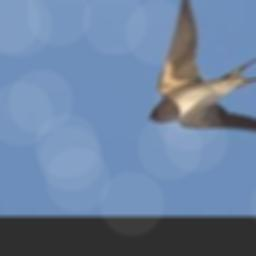Swallow: (148, 0, 256, 137)
